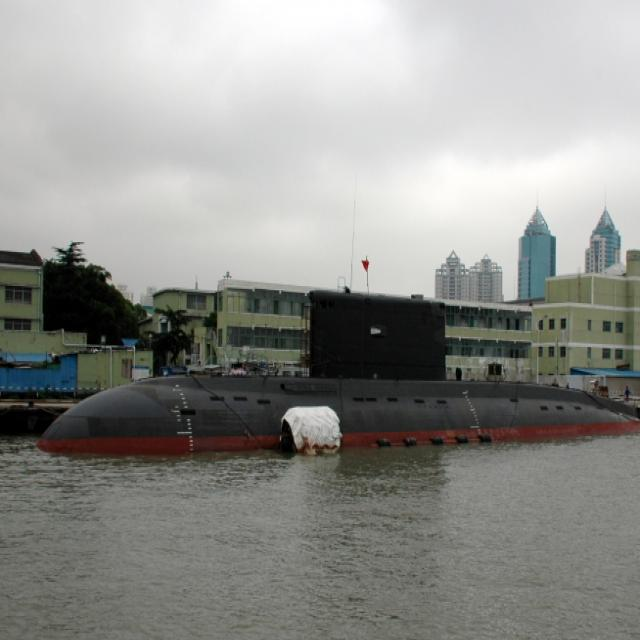submarine: (23, 294, 640, 455)
